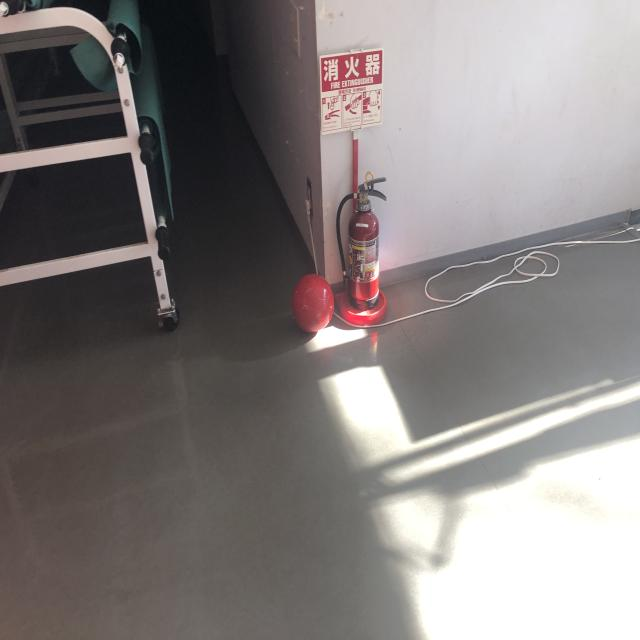red_ball: (292, 273, 334, 330)
